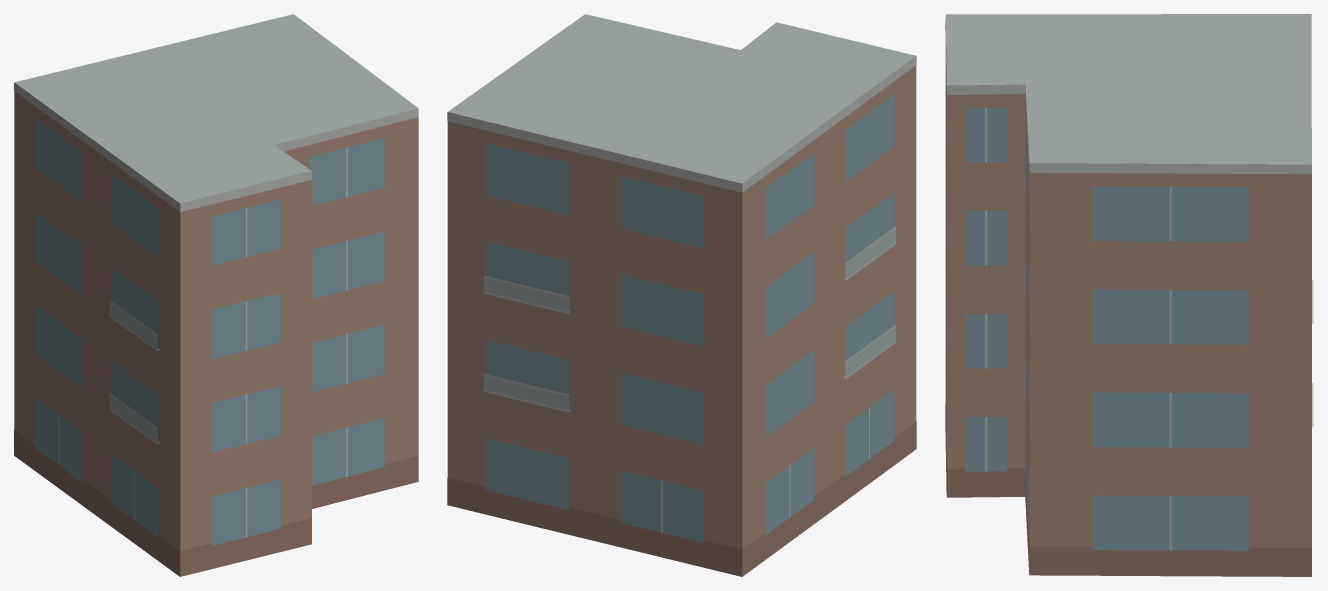
Rendered from survey-upis-33019935.glb.
3 views of the same model, side by side, from view 1: azimuth 30°, elevation 25°; view 2: azimuth 150°, elevation 25°; view 3: azimuth 270°, elevation 25° (orthographic). The views are drawn at different scales.
Parts seen in each view (by area): view 1: survey-upis-33019935.tmp; view 2: survey-upis-33019935.tmp; view 3: survey-upis-33019935.tmp.
Boxes of the visible parts, x1,y1,x2,y2 form: survey-upis-33019935.tmp: (14,14,418,576); survey-upis-33019935.tmp: (447,14,916,576); survey-upis-33019935.tmp: (945,14,1313,576).
Bounding box in the file's own units: 8.27 × 10.5 × 8.5.
